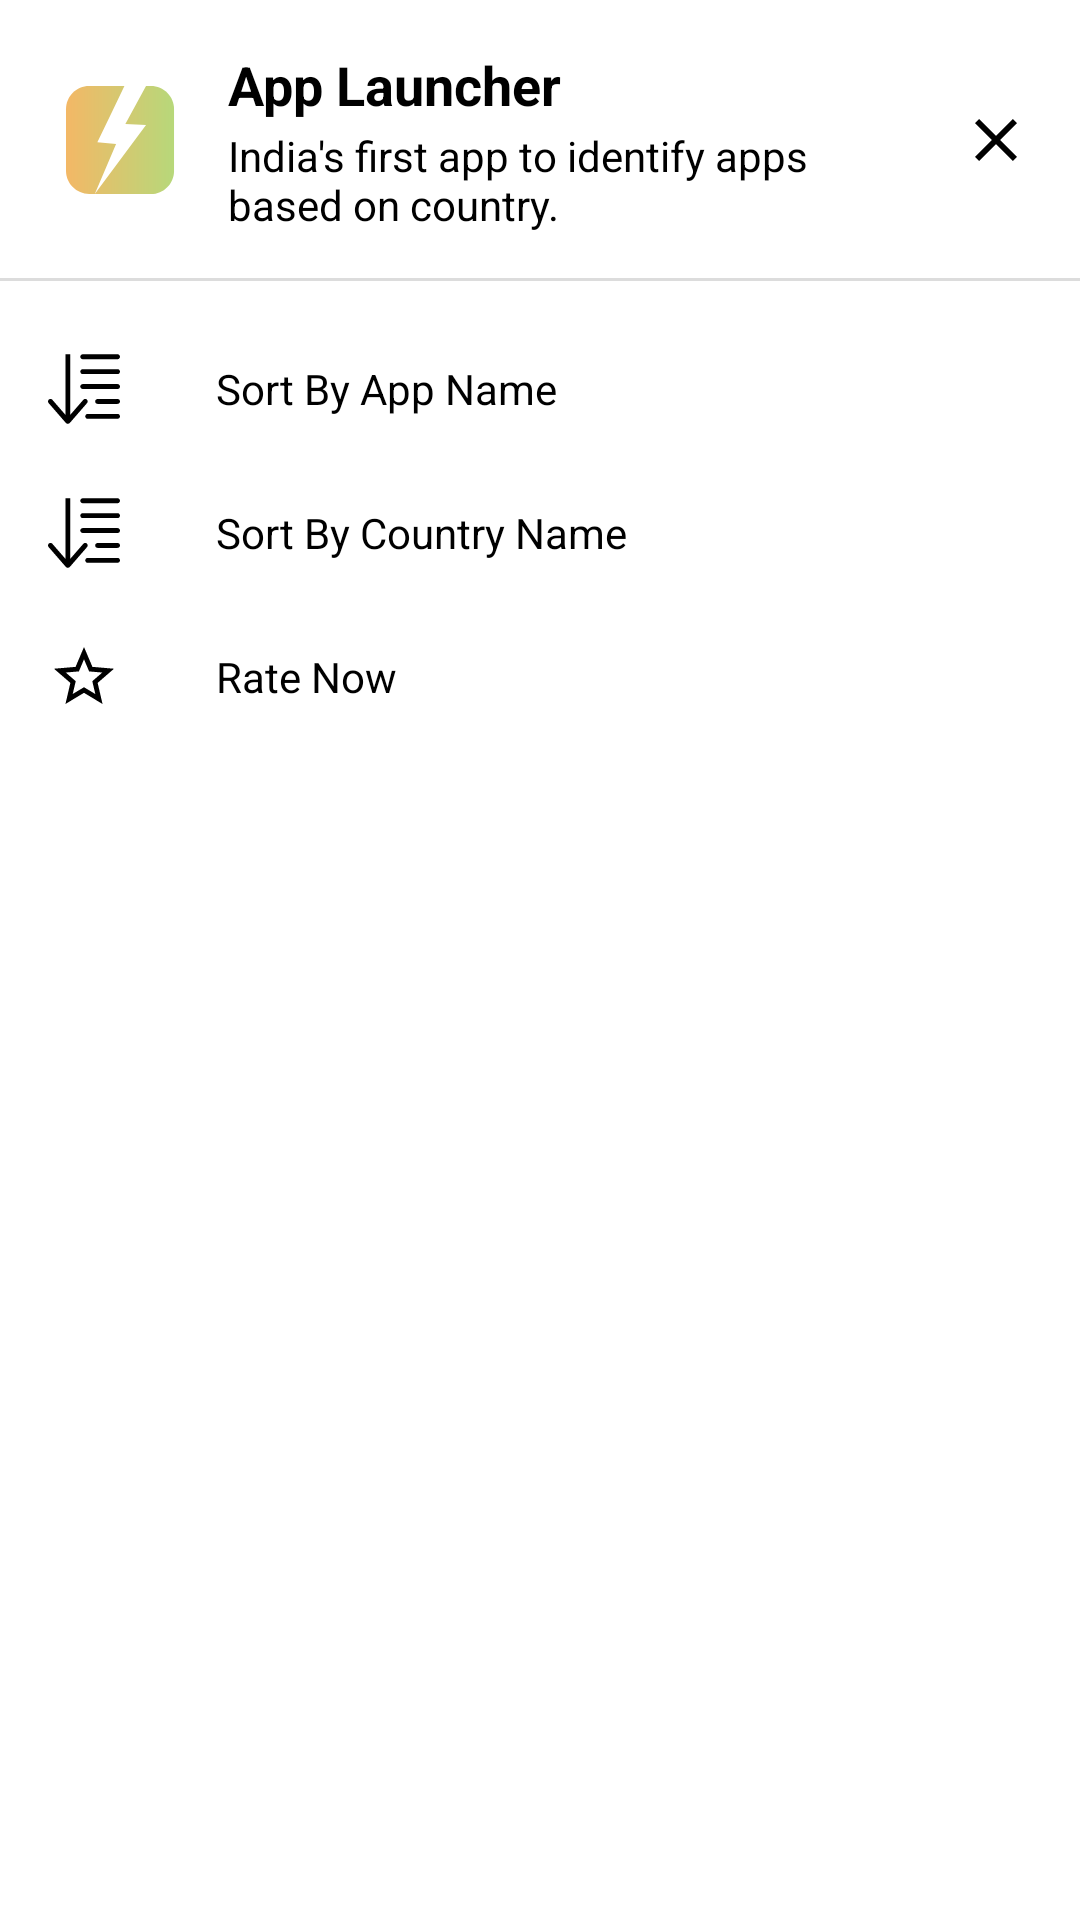

Named icons in this screenshot (1080 × 1920) and their bounding boxes, (x1, y1, x2, y2):
close: (975, 119, 1017, 161)
